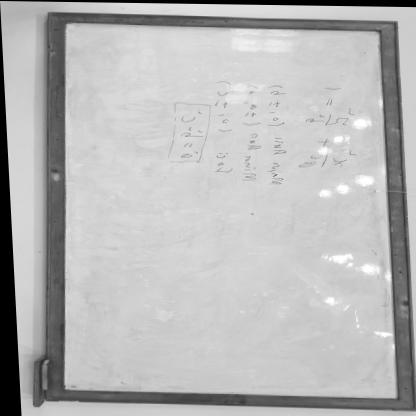Handwritten text: (261, 132, 294, 188), (238, 127, 260, 184)
Whiteboard: (50, 19, 410, 404)
